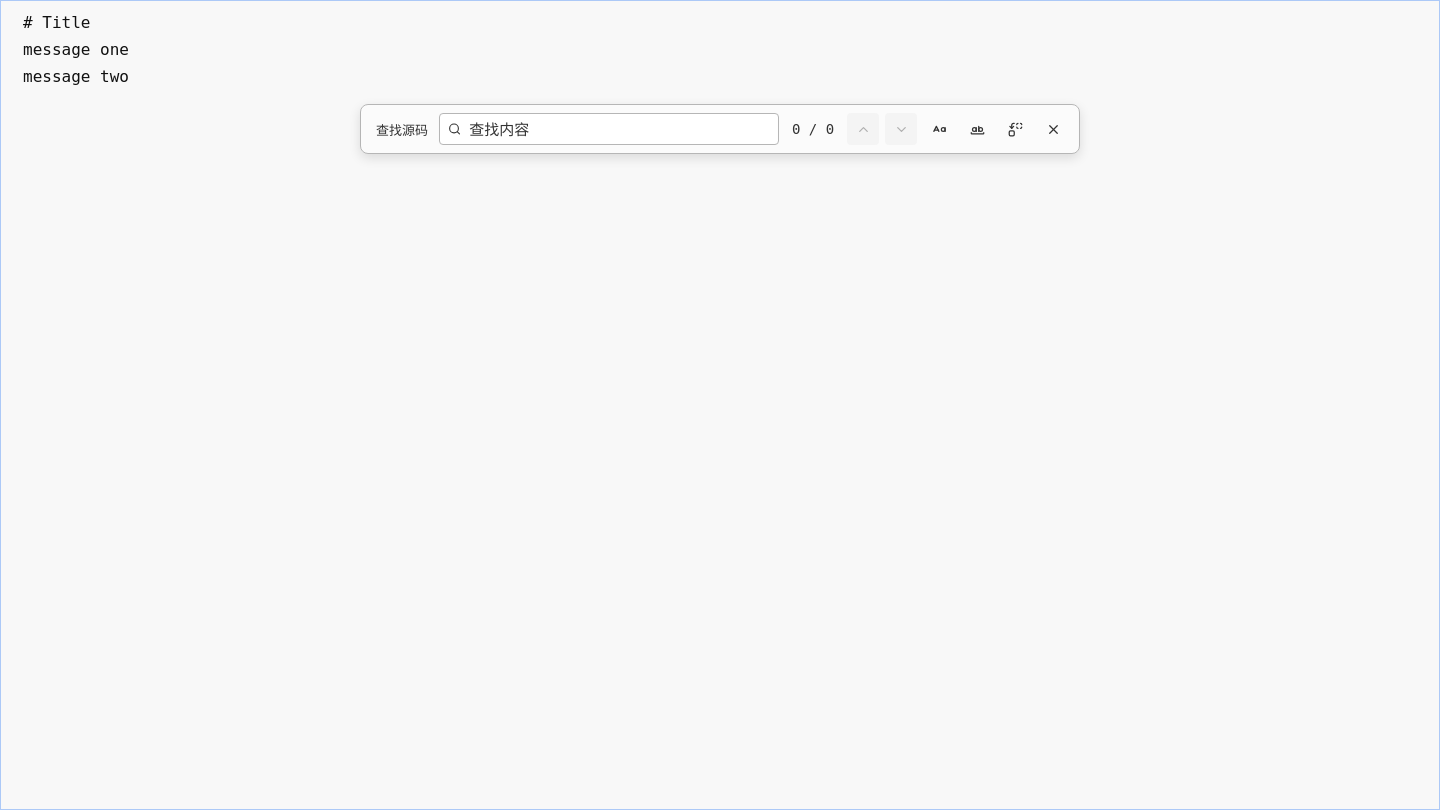
Test case: SourceEditor find UI › uses the InkLeaf find bar instead of the default CodeMirror search panel
Type "message" into the field with placeholder "查找内容" at (619, 129), box [467,118,770,140]
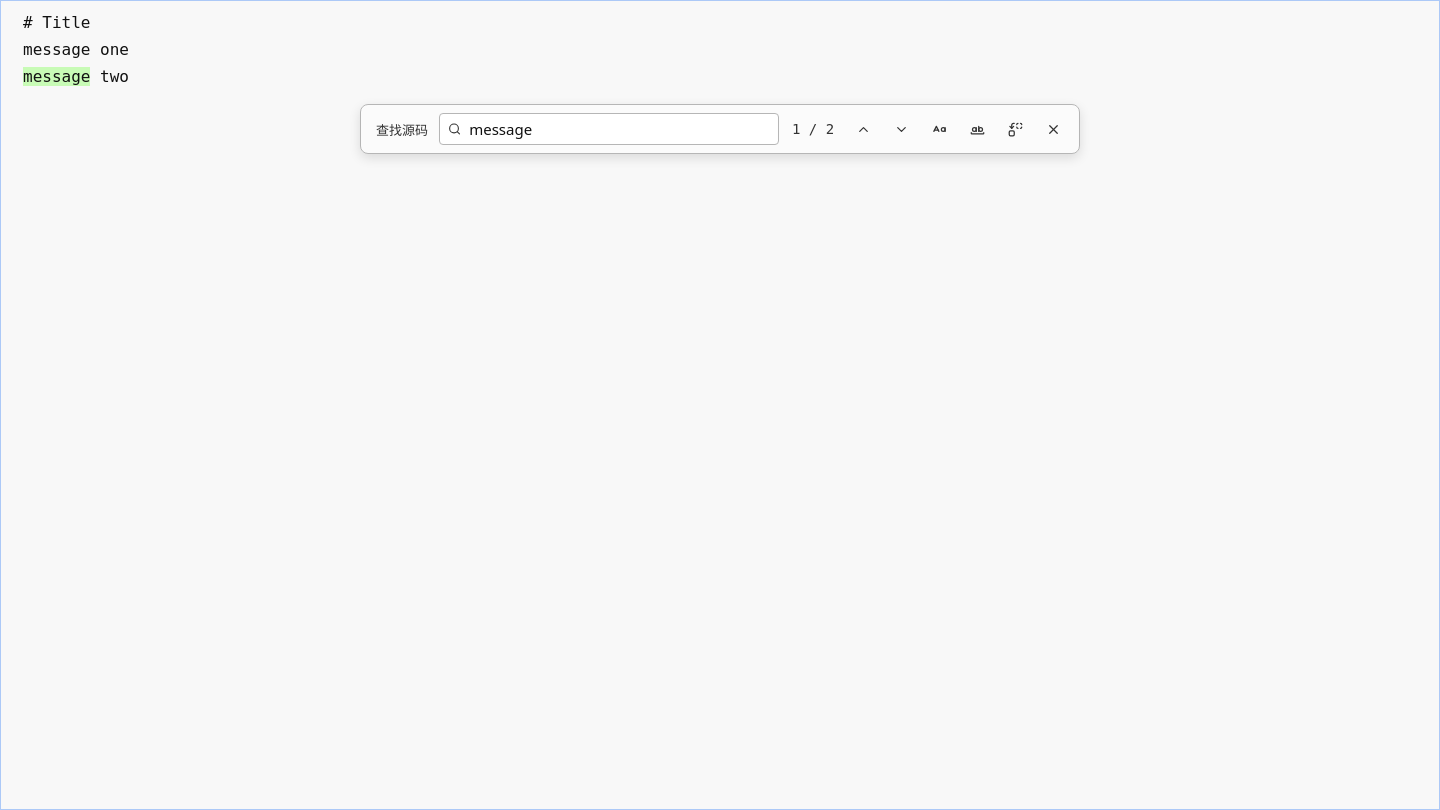
Expected: the text "1 / 2" is shown, [792,121,834,137]
Click the button named "下一个" at (901, 129), box [885,113,917,145]
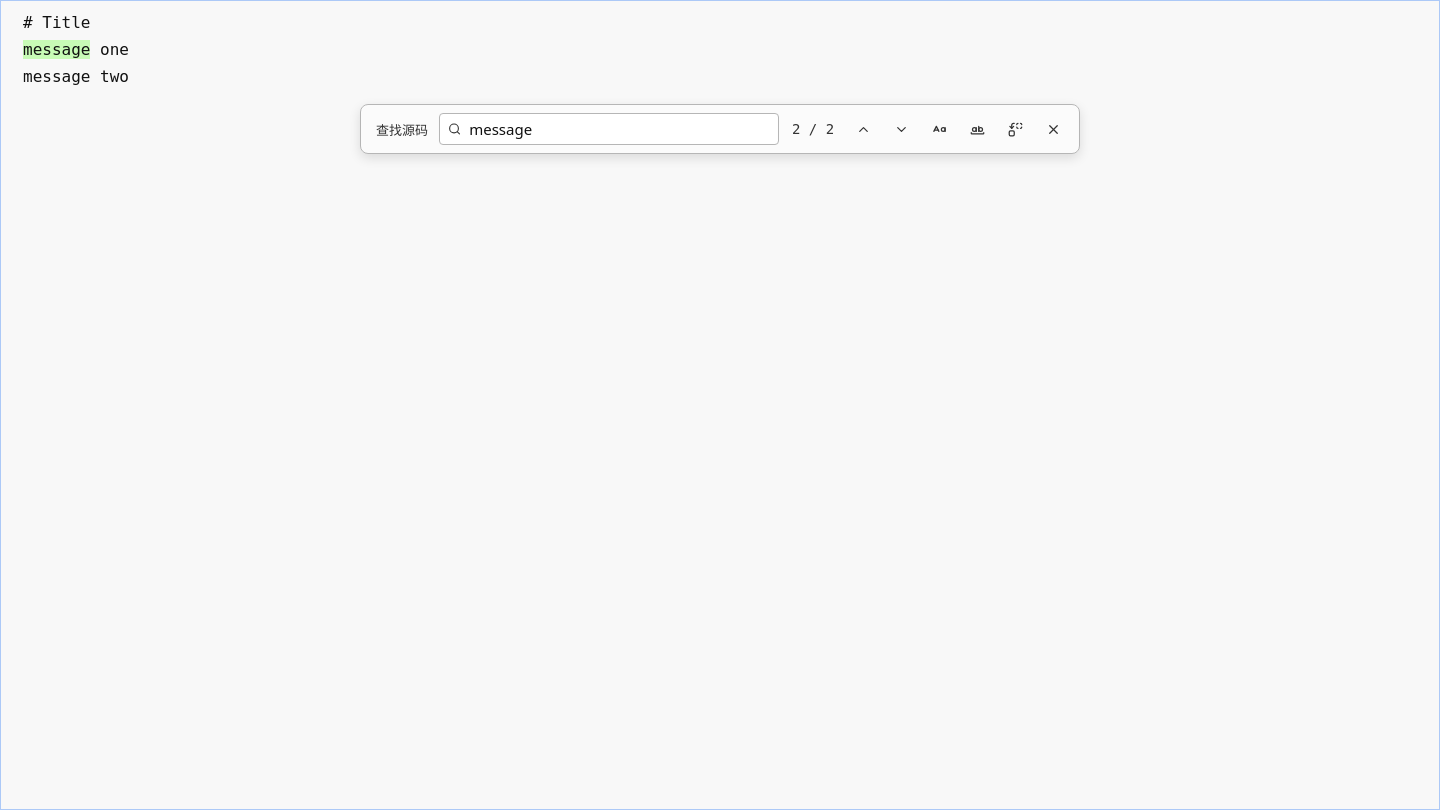
Expected: the text "2 / 2" is shown, [792,121,834,137]
Press Escape in the field with placeholder "查找内容", box [467,118,770,140]
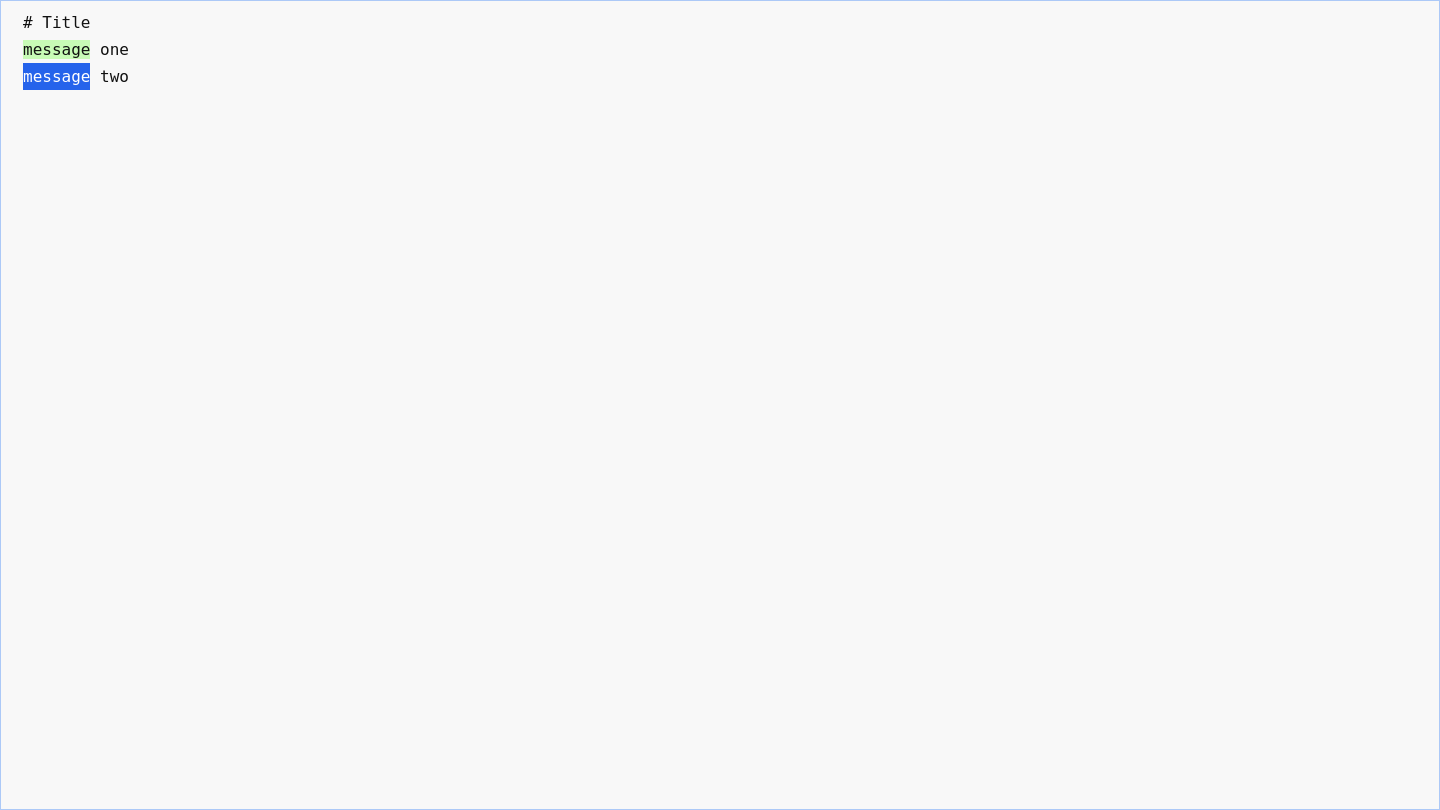
Expected: the field with placeholder "查找内容" is gone
